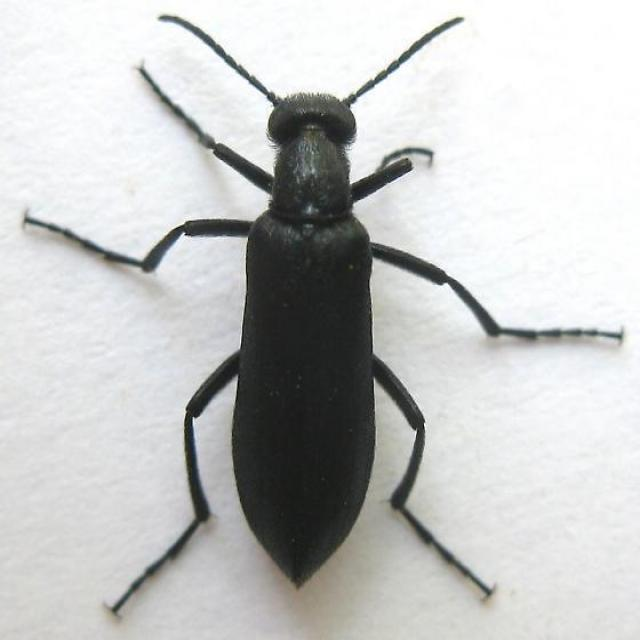BlisterBeetle-Adult-: (82, 6, 570, 631)
